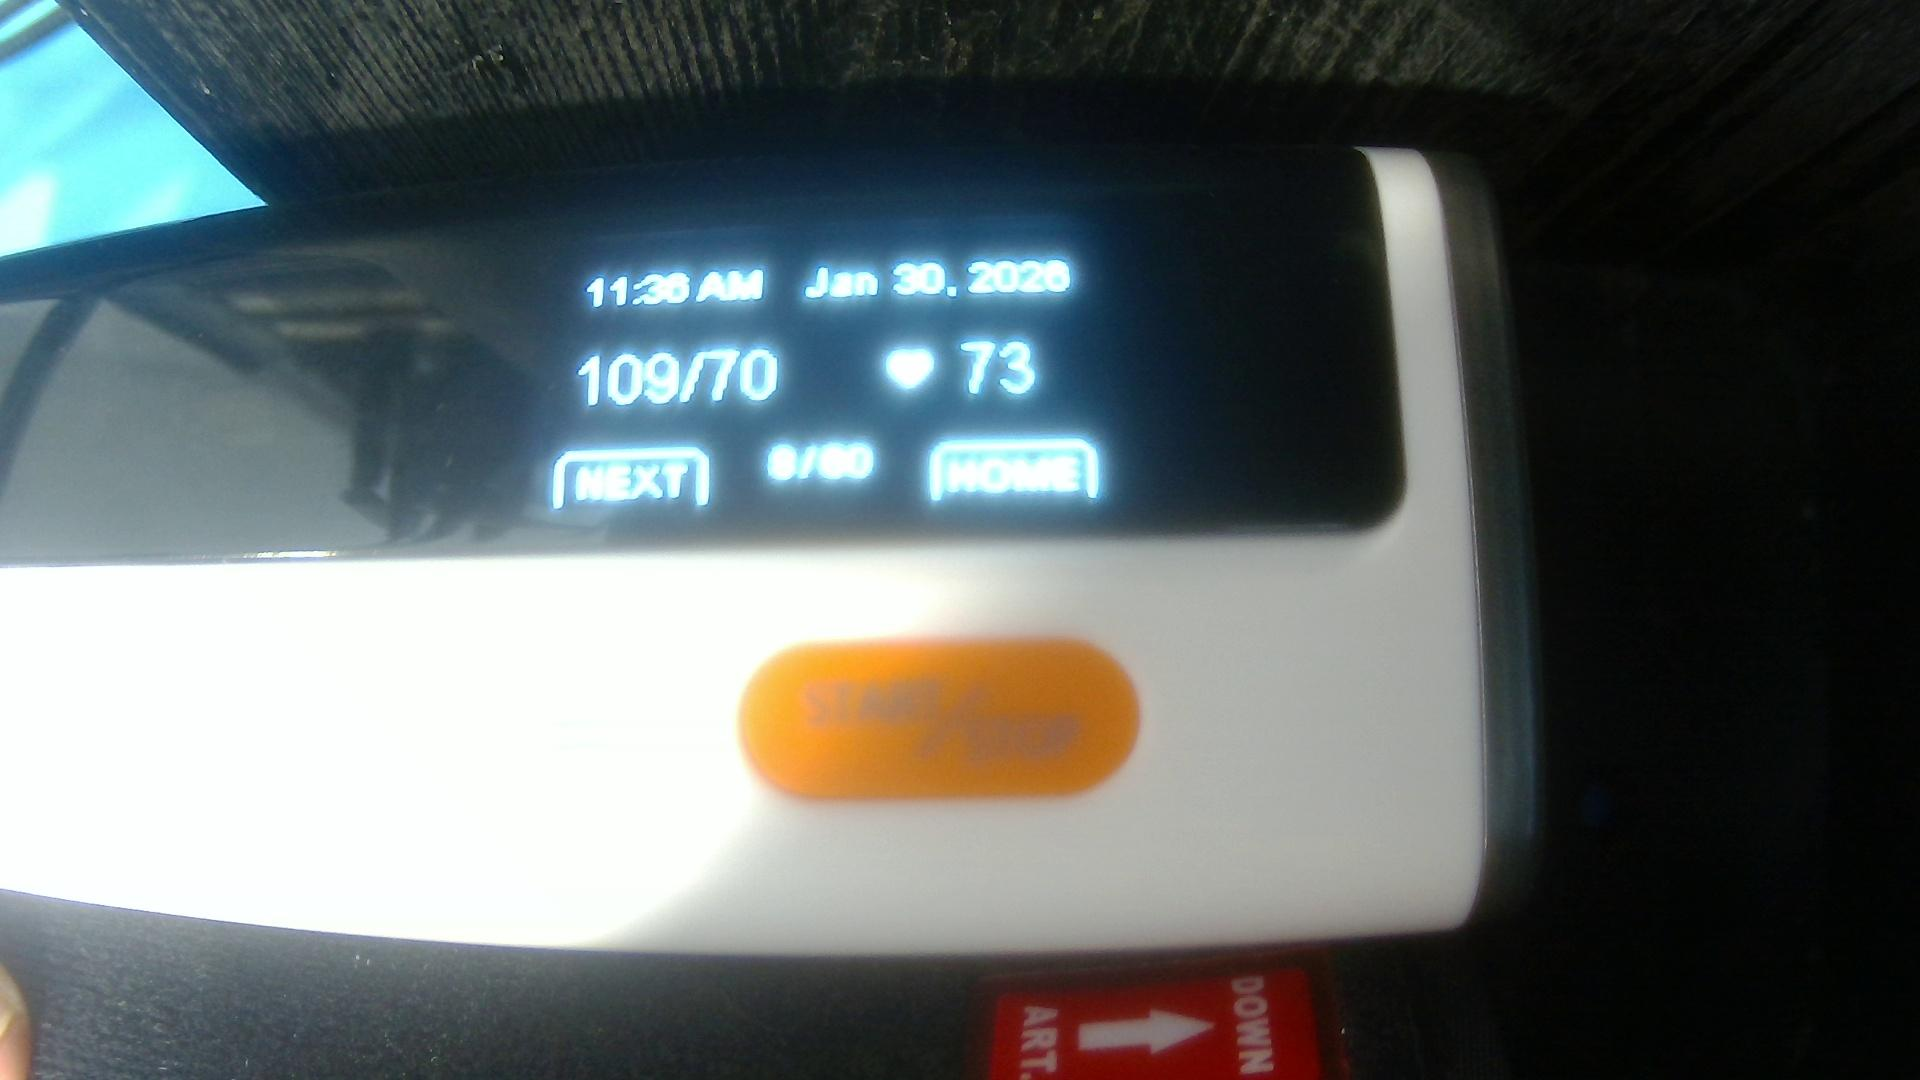DISPLAY: (6, 150, 1371, 560)
